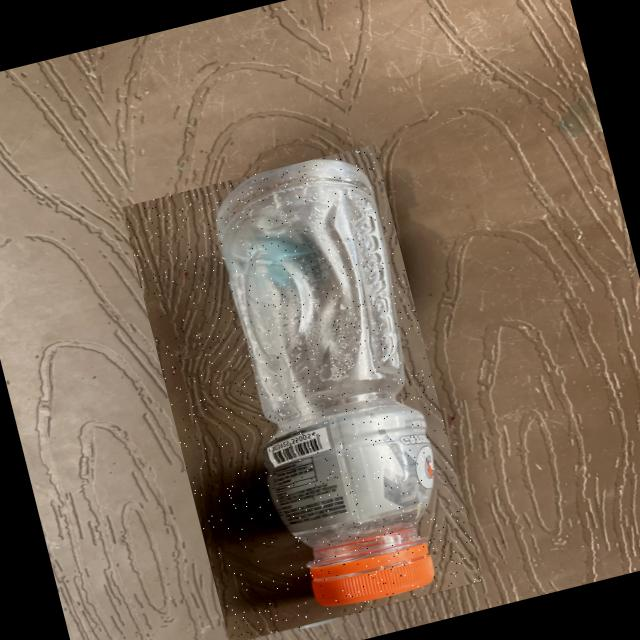REJECT: (120, 143, 483, 640)
